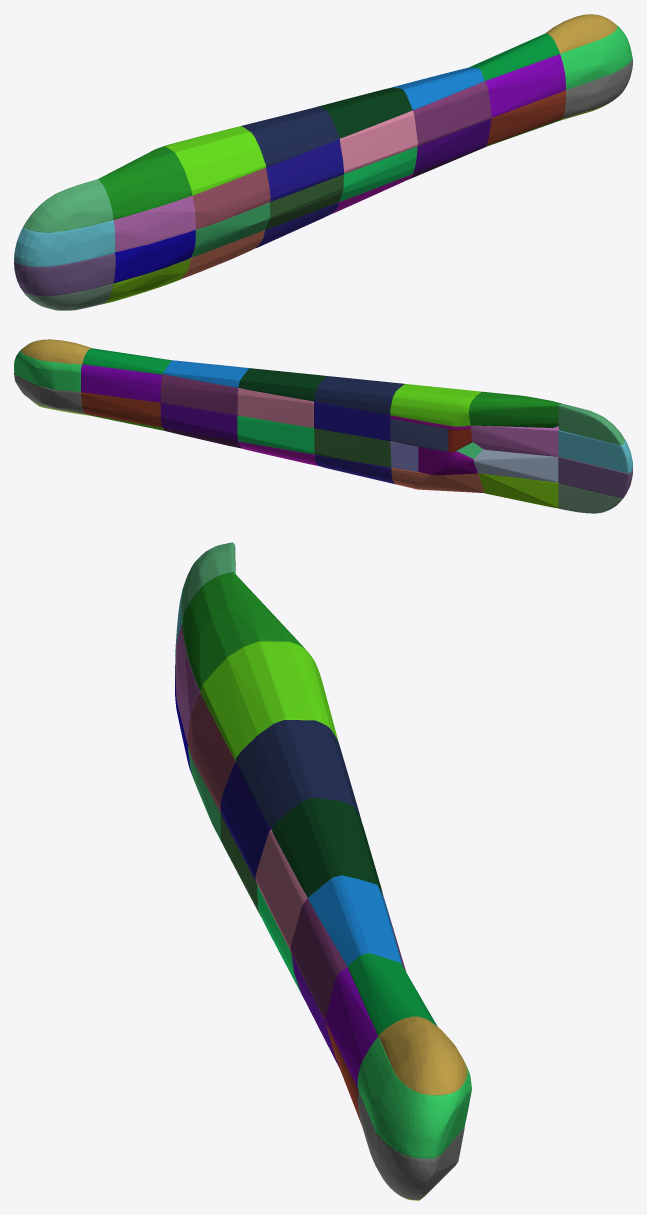
File: arm-L4_split.obj
3 renders of one model, top to bottom at view 1: azimuth 30°, elevation 25°; view 2: azimuth 150°, elevation 25°; view 3: azimuth 270°, elevation 25°, orthographic. The views are drawn at different scales.
Parts seen in each view (by area): view 1: geometry_8, geometry_17, geometry_2, geometry_21, geometry_3, geometry_1, geometry_32, geometry_28, geometry_24, geometry_7, geometry_13, geometry_20 (+17 smaller); view 2: geometry_17, geometry_8, geometry_21, geometry_32, geometry_7, geometry_28, geometry_24, geometry_6, geometry_23, geometry_19, geometry_20, geometry_2 (+21 smaller); view 3: geometry_17, geometry_21, geometry_36, geometry_25, geometry_8, geometry_29, geometry_37, geometry_33, geometry_35, geometry_28, geometry_32, geometry_24 (+6 smaller).
Part boxes in pixels (<box>): geometry_8: <box>98,146,192,219</box>; geometry_17: <box>163,126,266,195</box>; geometry_2: <box>14,220,115,267</box>; geometry_21: <box>241,107,339,167</box>; geometry_3: <box>23,179,113,232</box>; geometry_1: <box>14,253,115,296</box>; geometry_32: <box>485,54,565,117</box>; geometry_28: <box>413,81,491,145</box>; geometry_24: <box>340,110,417,173</box>; geometry_7: <box>113,196,195,252</box>; geometry_13: <box>192,168,270,229</box>; geometry_20: <box>266,139,343,201</box>; geometry_17: <box>390,384,483,426</box>; geometry_8: <box>469,392,561,427</box>; geometry_21: <box>314,376,404,414</box>; geometry_32: <box>81,364,162,402</box>; geometry_7: <box>470,425,558,456</box>; geometry_28: <box>160,374,238,414</box>; geometry_24: <box>237,388,313,427</box>; geometry_6: <box>473,449,558,482</box>; geometry_23: <box>237,415,314,454</box>; geometry_19: <box>314,428,391,467</box>; geometry_20: <box>314,401,390,441</box>; geometry_2: <box>558,430,632,473</box>; geometry_17: <box>200,641,338,760</box>; geometry_21: <box>235,720,361,829</box>; geometry_36: <box>357,1037,471,1158</box>; geometry_25: <box>272,798,383,897</box>; geometry_8: <box>182,572,304,690</box>; geometry_29: <box>308,875,402,966</box>; geometry_37: <box>378,1016,467,1095</box>; geometry_33: <box>348,953,436,1035</box>; geometry_35: <box>357,1091,464,1199</box>; geometry_28: <box>290,898,405,1020</box>; geometry_32: <box>325,967,437,1088</box>; geometry_24: <box>255,829,384,951</box>.
Size of the model in its own units: 0.4376 by 0.0785 by 0.0993.
